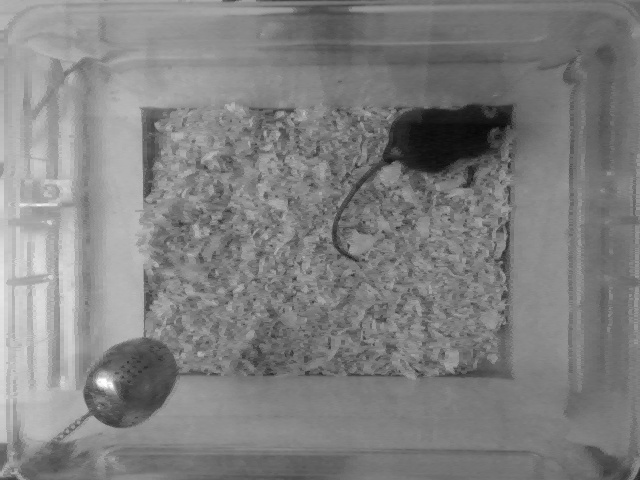mice: (331, 100, 518, 260)
